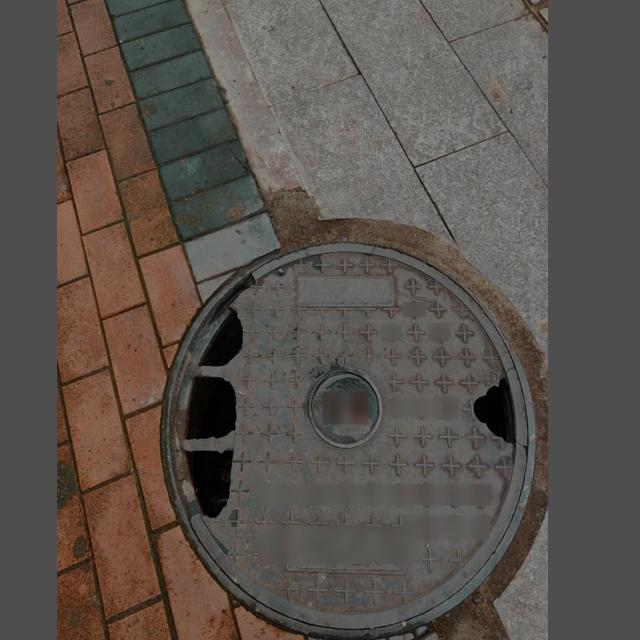broke: (171, 267, 530, 627)
